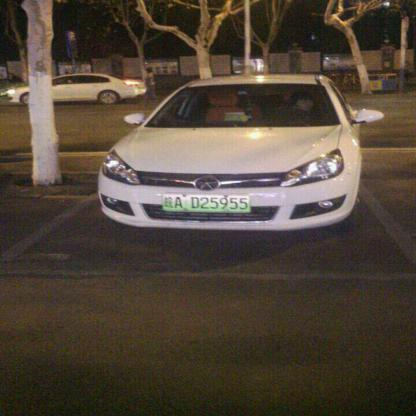lp: (162, 194, 251, 210)
